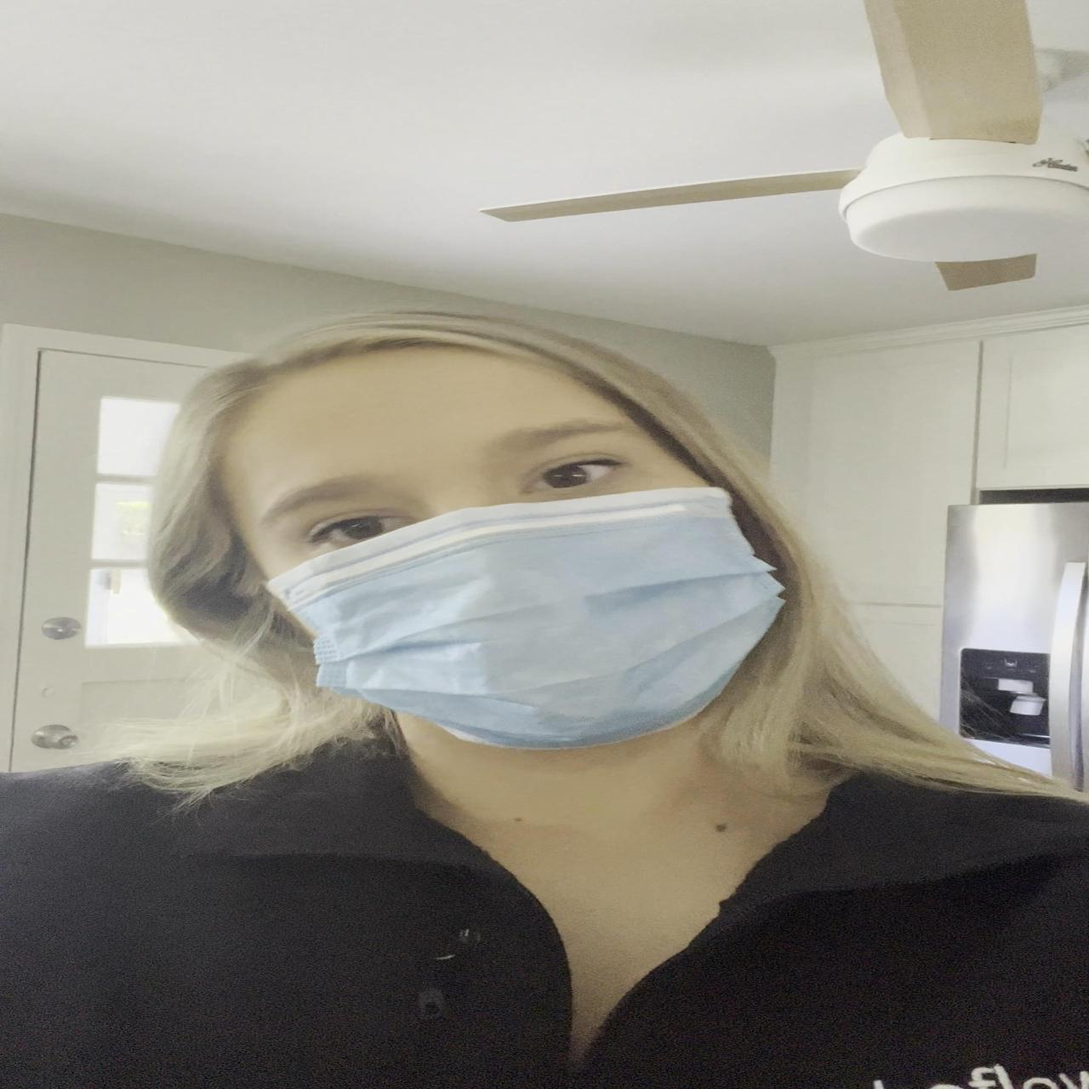NO_Safety_Vest: (0, 743, 1089, 1089)
Person: (0, 318, 1089, 1089)
